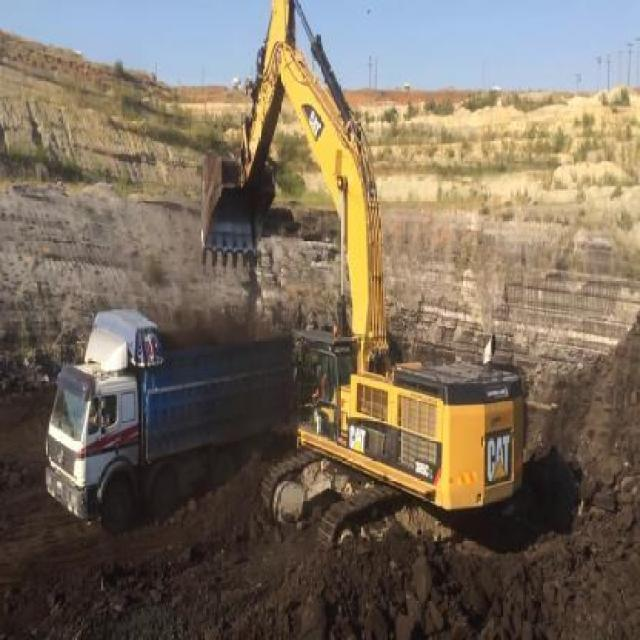dump_truck: (44, 303, 279, 540)
excavator: (197, 0, 531, 543)
